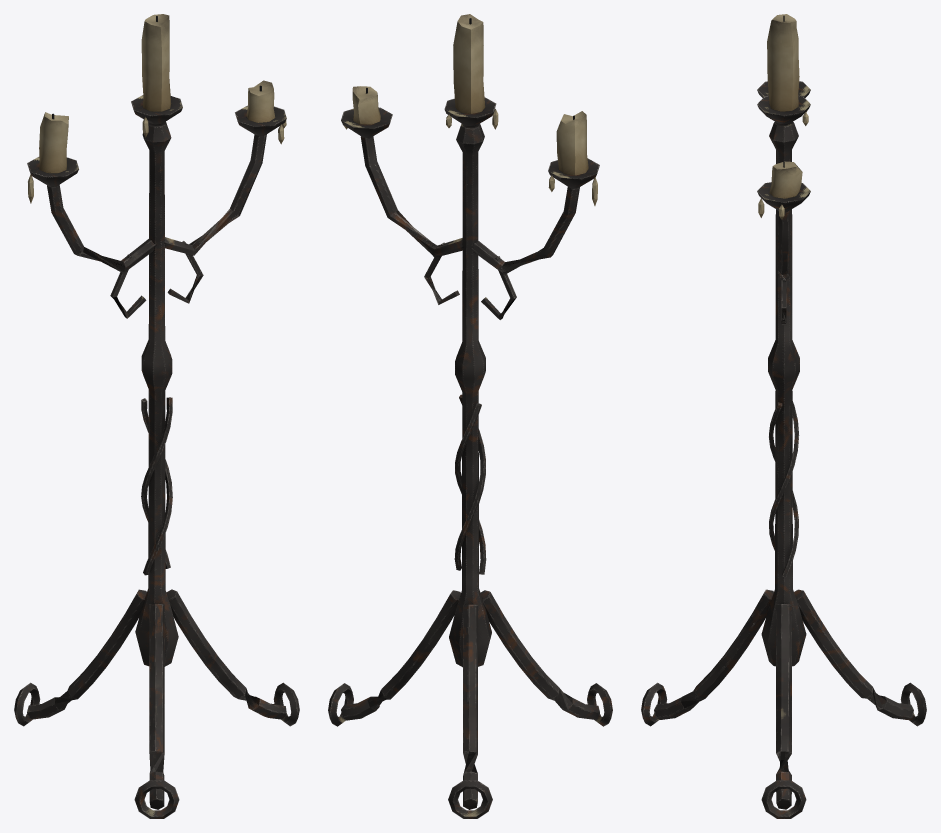
The model's file is candelabrum.glb.
3 renders of one model, left to right at view 1: azimuth 30°, elevation 25°; view 2: azimuth 150°, elevation 25°; view 3: azimuth 270°, elevation 25°, orthographic.
Visible parts, largest first — view 1: Candelabrum; view 2: Candelabrum; view 3: Candelabrum.
Boxes of the visible parts, box(x1,y1,x2,y2) form: Candelabrum: box(14, 14, 299, 818); Candelabrum: box(328, 14, 612, 818); Candelabrum: box(641, 14, 926, 818).
Size of the model in its own units: 0.6062 by 1.63 by 0.5719.
1 material, 1 textured.
